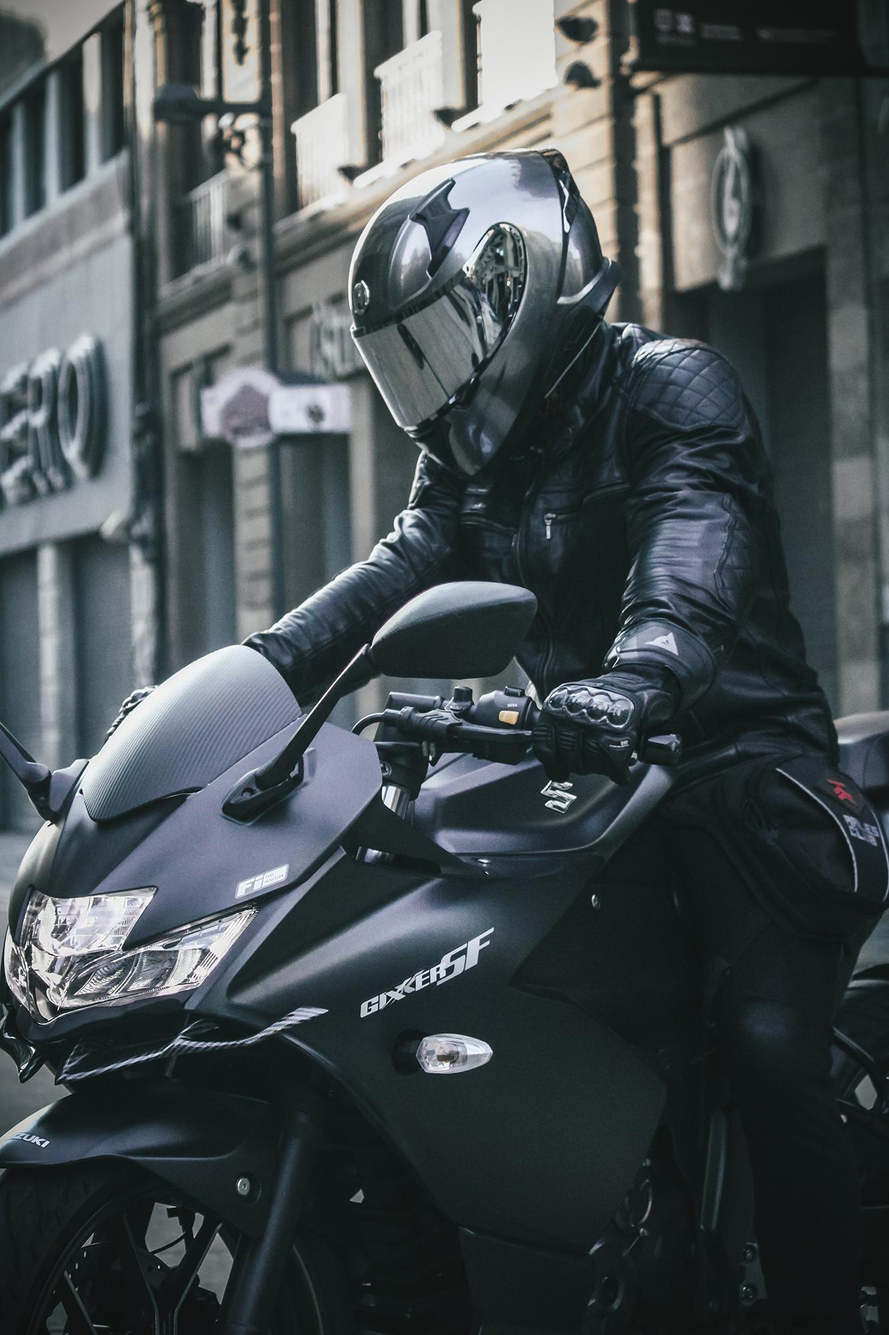helmet: (345, 145, 624, 487)
